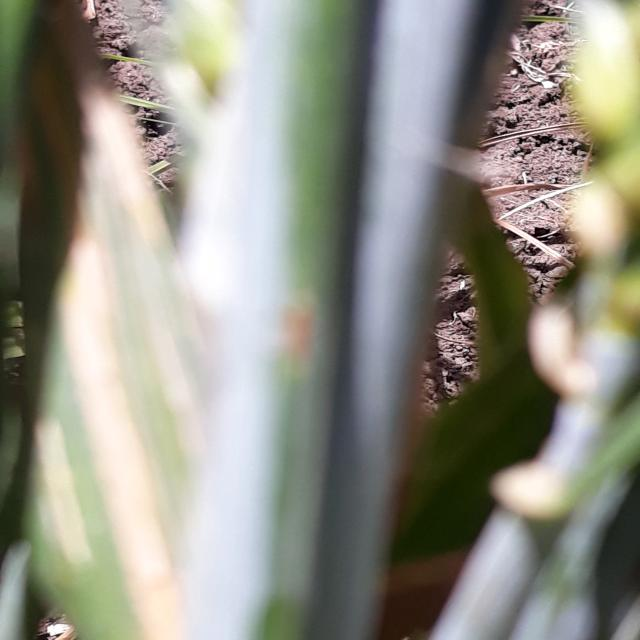black_stem_rust: (0, 40, 360, 640)
